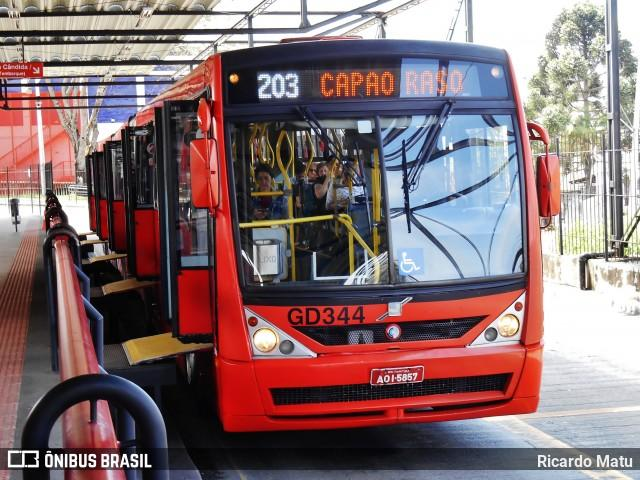CAPAO RASO: (313, 66, 469, 100)
